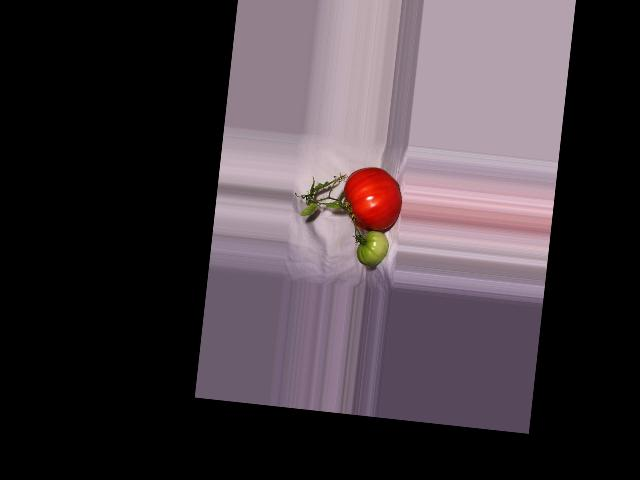tomato: (340, 164, 404, 234)
